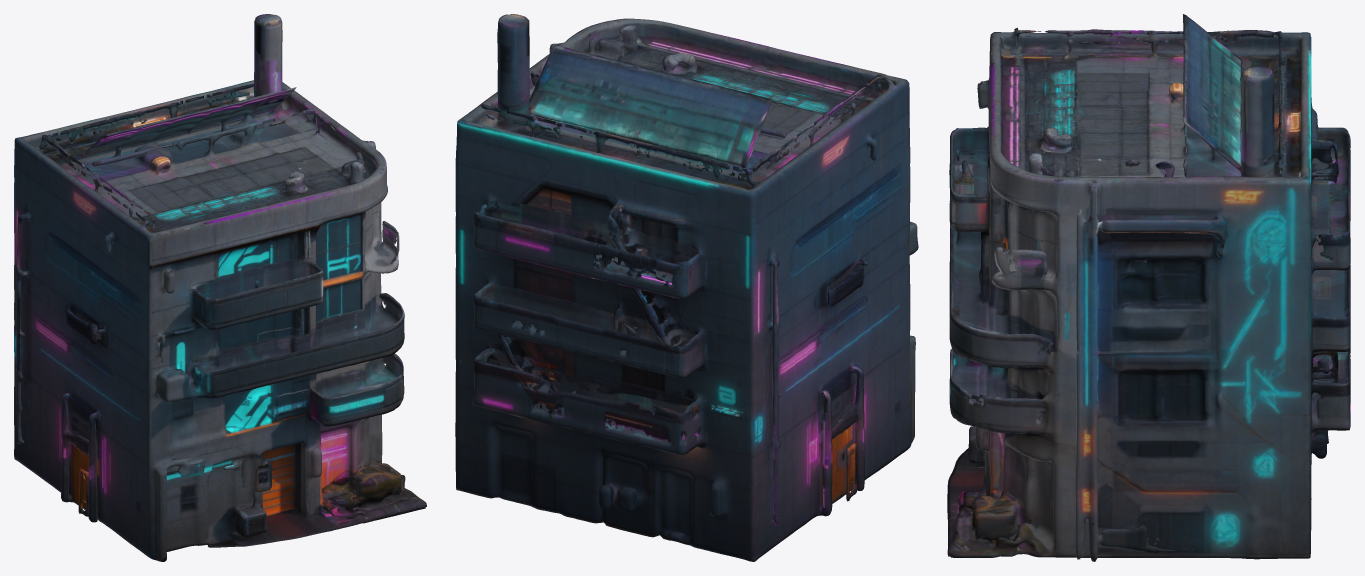
Rendered from Subject_3_story_home_0213120553.fbx.
3 renders of one model, left to right at view 1: azimuth 30°, elevation 25°; view 2: azimuth 150°, elevation 25°; view 3: azimuth 270°, elevation 25°, orthographic. The views are drawn at different scales.
Parts seen in each view (by area): view 1: Mesh_0; view 2: Mesh_0; view 3: Mesh_0.
Part boxes in pixels (x1,y1,x2,y2): Mesh_0: [14, 14, 426, 561]; Mesh_0: [455, 14, 918, 561]; Mesh_0: [947, 14, 1350, 561].
Size of the model in its own units: 146 by 200 by 155.
Materials: 1 (1 with a texture image).
